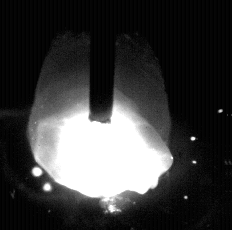arame: (90, 0, 115, 123)
poca: (27, 0, 171, 230)
